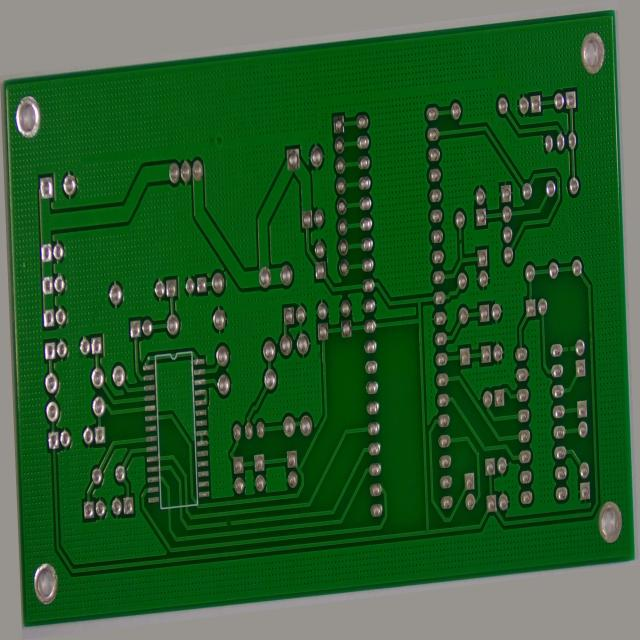open_circuit: (213, 529, 222, 544), (464, 243, 472, 259), (572, 381, 579, 395)
